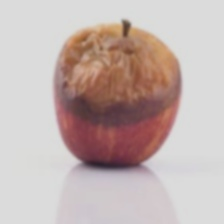apple: (27, 44, 224, 213)
